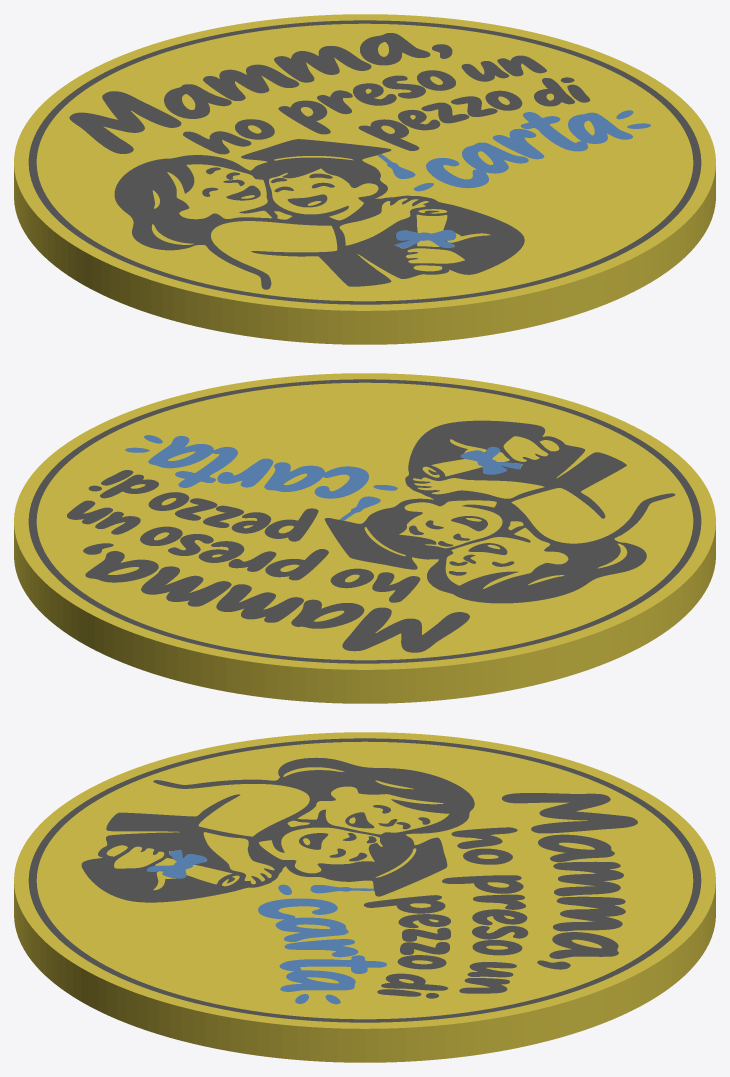
File: sottobicchiere-mamma-pezzo-carta.glb
3 renders of one model, top to bottom at view 1: azimuth 30°, elevation 25°; view 2: azimuth 150°, elevation 25°; view 3: azimuth 270°, elevation 25°, orthographic.
Parts seen in each view (by area): view 1: coaster_base, coaster_ink, coaster_accent; view 2: coaster_base, coaster_ink, coaster_accent; view 3: coaster_base, coaster_ink, coaster_accent.
Boxes of the visible parts, x1,y1,x2,y2 form: coaster_base: [14, 14, 715, 344]; coaster_ink: [28, 20, 701, 304]; coaster_accent: [377, 110, 650, 248]; coaster_base: [14, 373, 715, 703]; coaster_ink: [28, 379, 701, 663]; coaster_accent: [125, 435, 522, 520]; coaster_base: [14, 732, 715, 1062]; coaster_ink: [28, 738, 701, 1022]; coaster_accent: [147, 849, 386, 1004].
Size of the model in its own units: 0.075 by 0.004 by 0.075.
